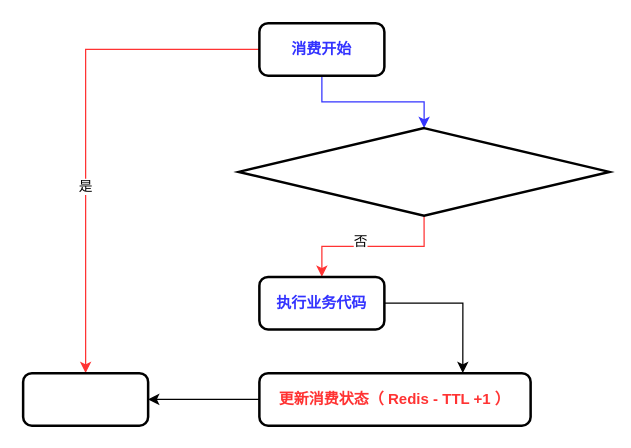
This 631x448 diagram has some shape labels left out. The box of each missing label's shape, as (x1, y1, x2, y2) in pixels:
检查消费状态( redis ): (237, 126, 610, 216)
结束: (21, 371, 149, 426)
